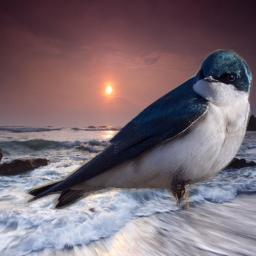Swallow: (24, 49, 253, 210)
